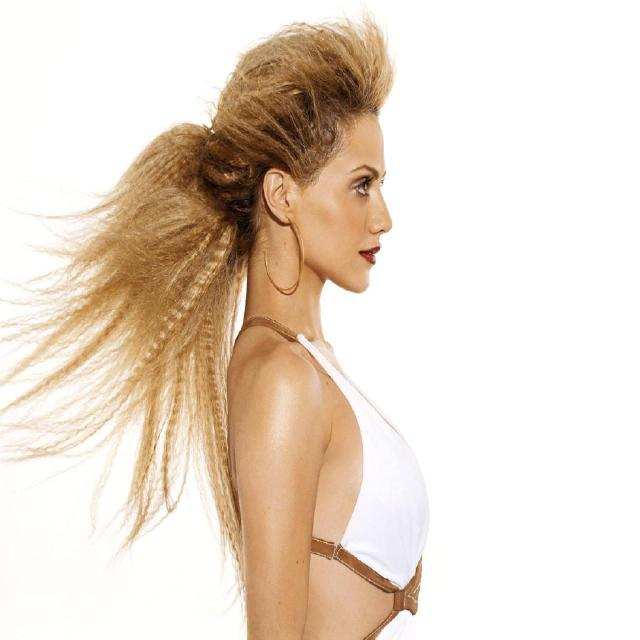no-earmuff: (260, 146, 313, 244)
